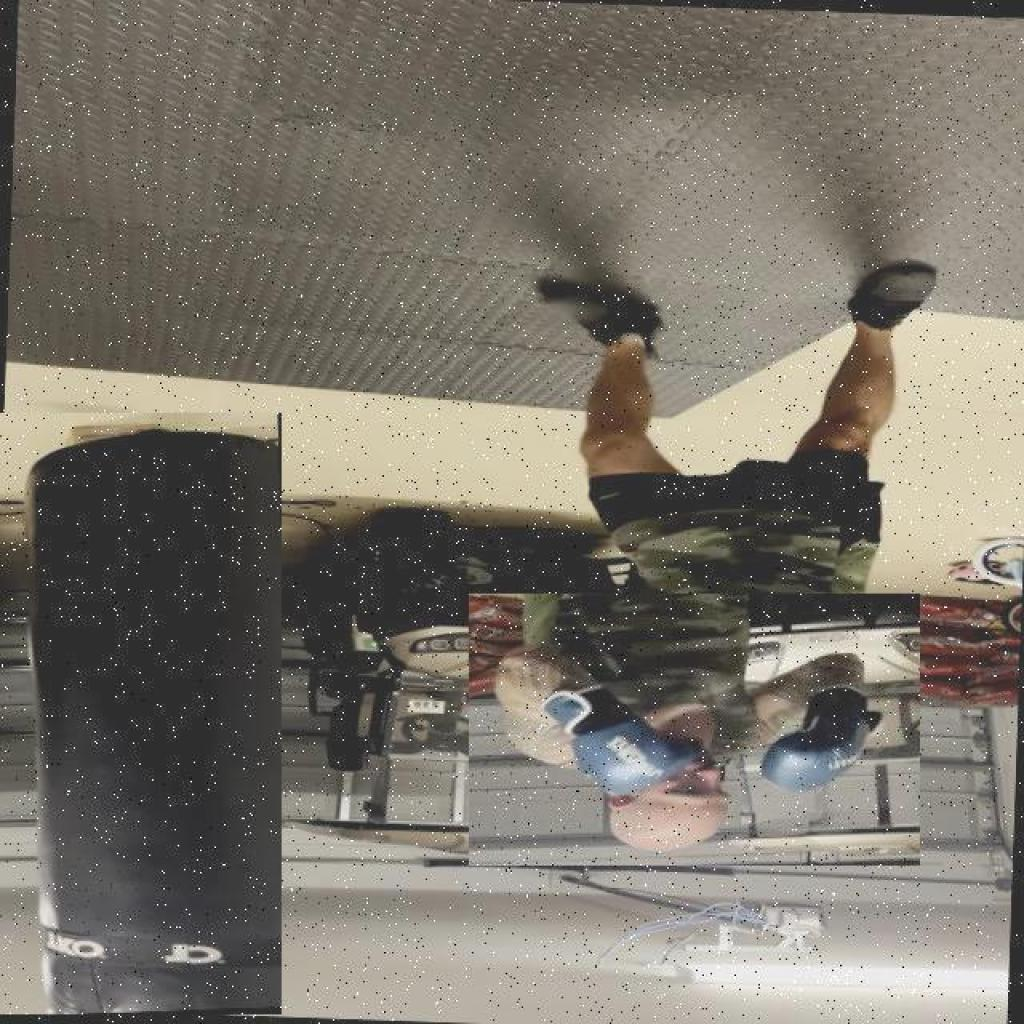bag: (0, 413, 281, 1014)
no punch: (469, 594, 920, 866)
